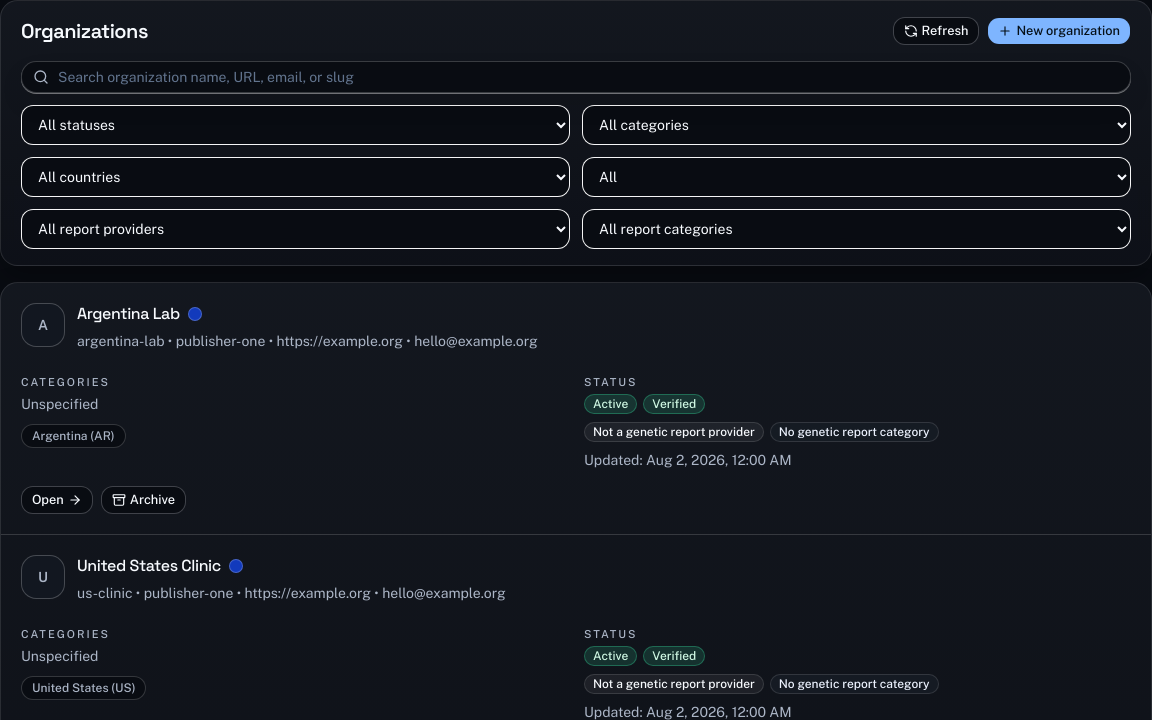
Scenario: DiscoverOrganizationBrowser › uses a country dropdown and filters organizations by country code
The width and height of the screenshot is (1152, 720).
Select "Argentina (AR)" in the dropdown named "Country". click: (296,177)
box: [21, 157, 570, 197]
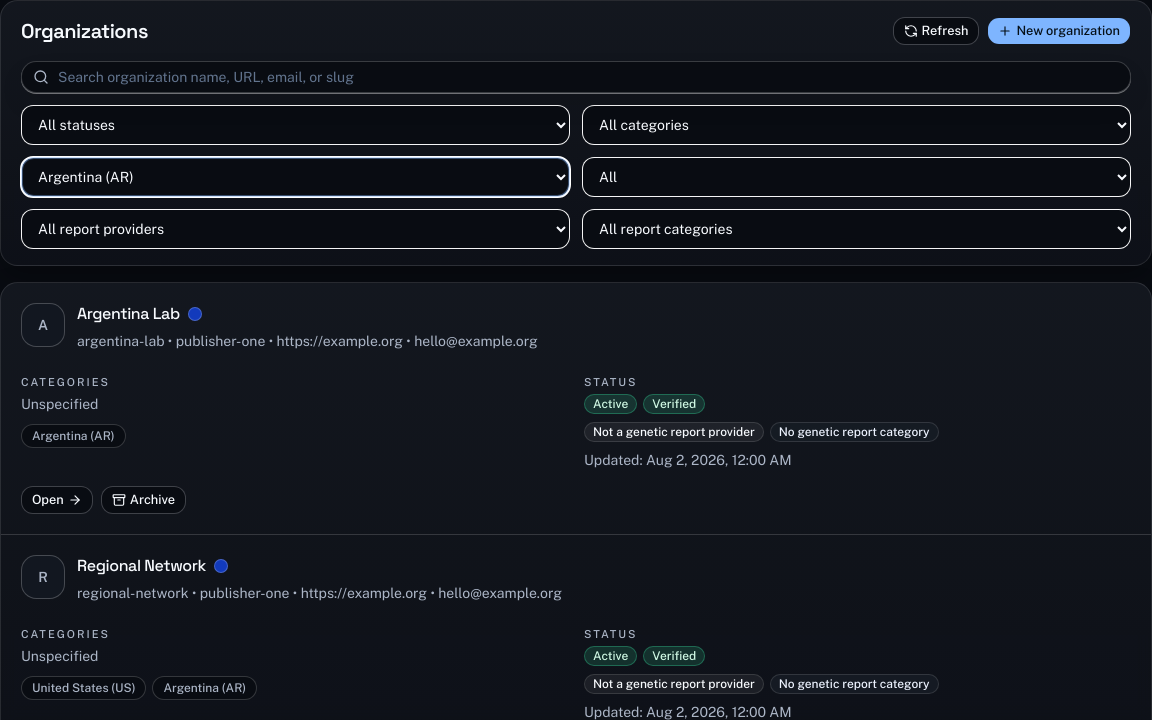
Expected: the heading "Argentina Lab" is shown, [77, 303, 180, 325]
Expected: the heading "United States Clinic" is gone
